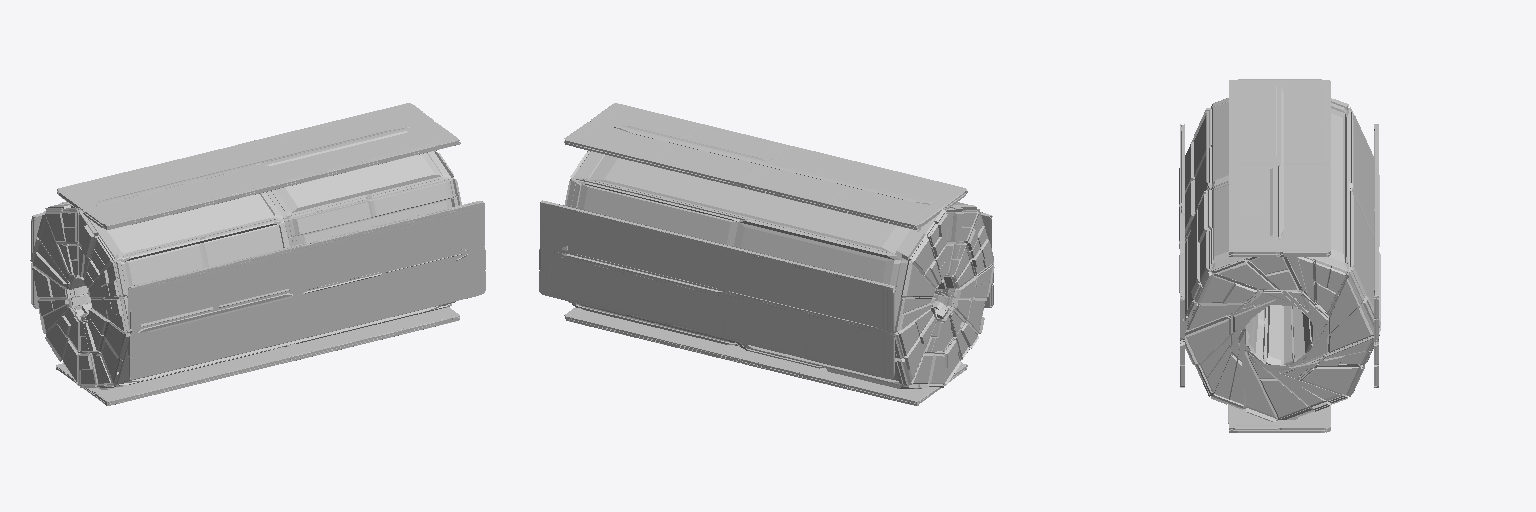
The model's file is program.obj.
3 renders of one model, left to right at view 1: azimuth 30°, elevation 25°; view 2: azimuth 150°, elevation 25°; view 3: azimuth 270°, elevation 25°, orthographic.
Visible parts, largest first — view 1: Turret_discombobulated_object.011; view 2: Turret_discombobulated_object.011; view 3: Turret_discombobulated_object.011.
Boxes of the visible parts, <box> form: Turret_discombobulated_object.011: <box>30,103,485,405</box>; Turret_discombobulated_object.011: <box>539,103,994,405</box>; Turret_discombobulated_object.011: <box>1179,79,1380,432</box>.
Size of the model in its own units: 1.07 by 0.524 by 0.521.